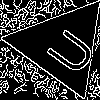U: (36, 21, 100, 78)
